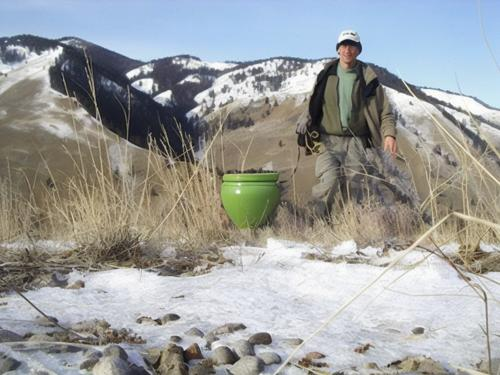person: (300, 29, 399, 215)
person/hand: (383, 136, 398, 157)
person/head: (335, 30, 362, 63)
pottedplant: (222, 170, 277, 227)
